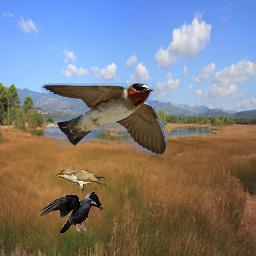Crow: (39, 191, 104, 233)
Cuckoo: (55, 169, 107, 194)
Swallow: (41, 83, 167, 155)
